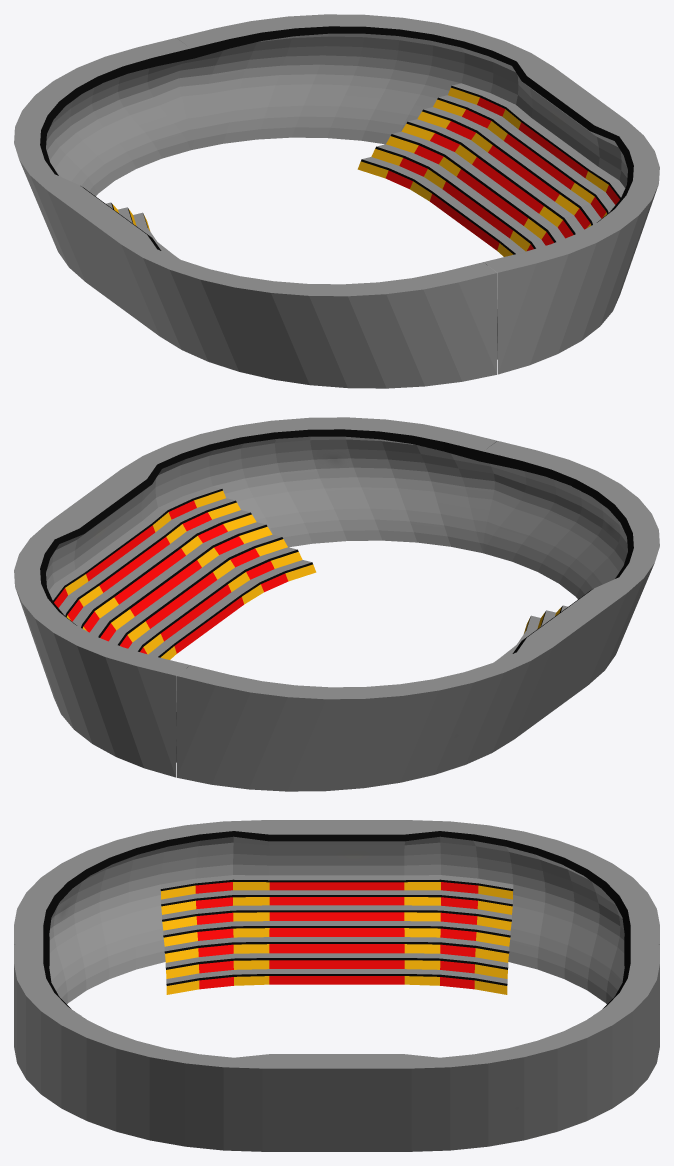
The model's file is Stadium 1.fbx.
3 views of the same model, one above another, from view 1: azimuth 30°, elevation 25°; view 2: azimuth 150°, elevation 25°; view 3: azimuth 270°, elevation 25° (orthographic).
Visible parts, largest first — view 1: Plane; view 2: Plane; view 3: Plane.
Part boxes in pixels (x1,y1,x2,y2): Plane: (14,14,659,388); Plane: (14,417,659,791); Plane: (14,820,659,1151).
Size of the model in its own units: 260 by 50 by 286.
